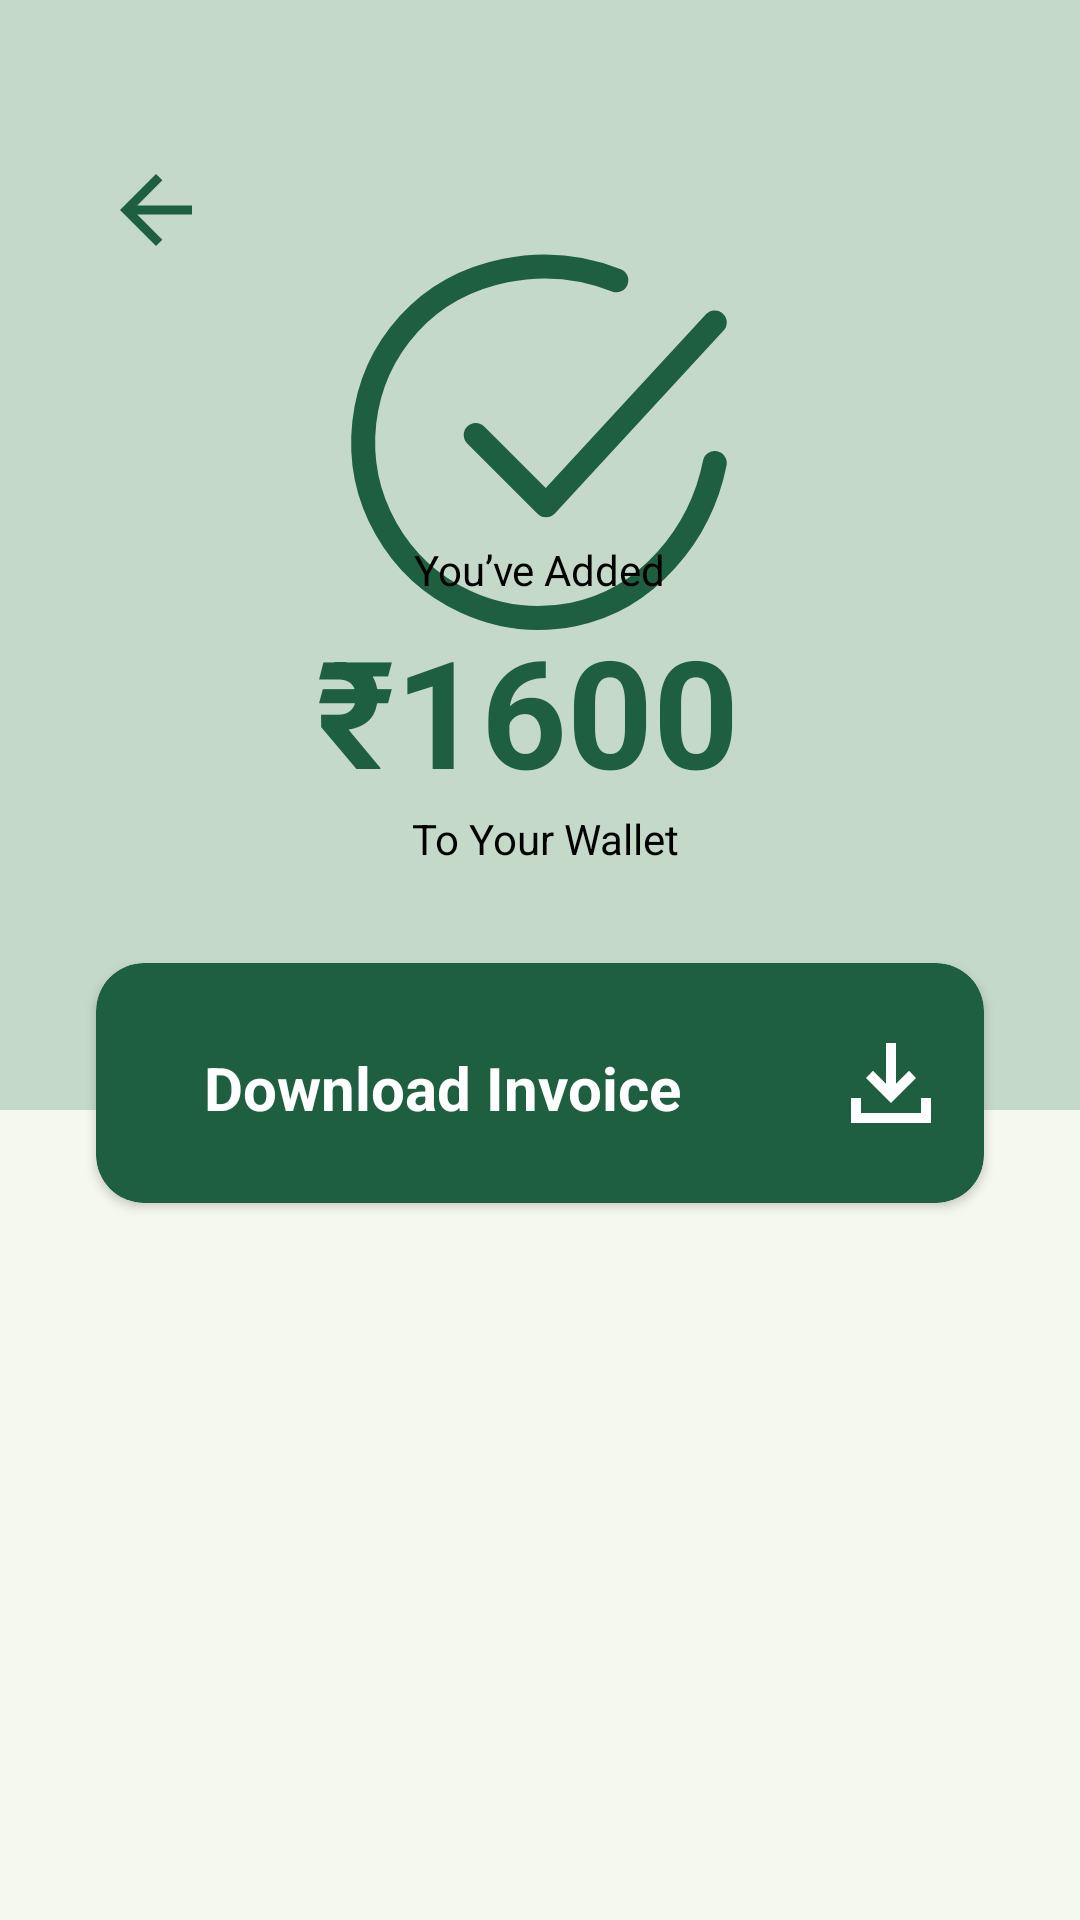

Icon click points for this 1080x1920 phone screenshot, format (x,y):
arrow back: (156,210)
symbols download sharp: (891,1083)
